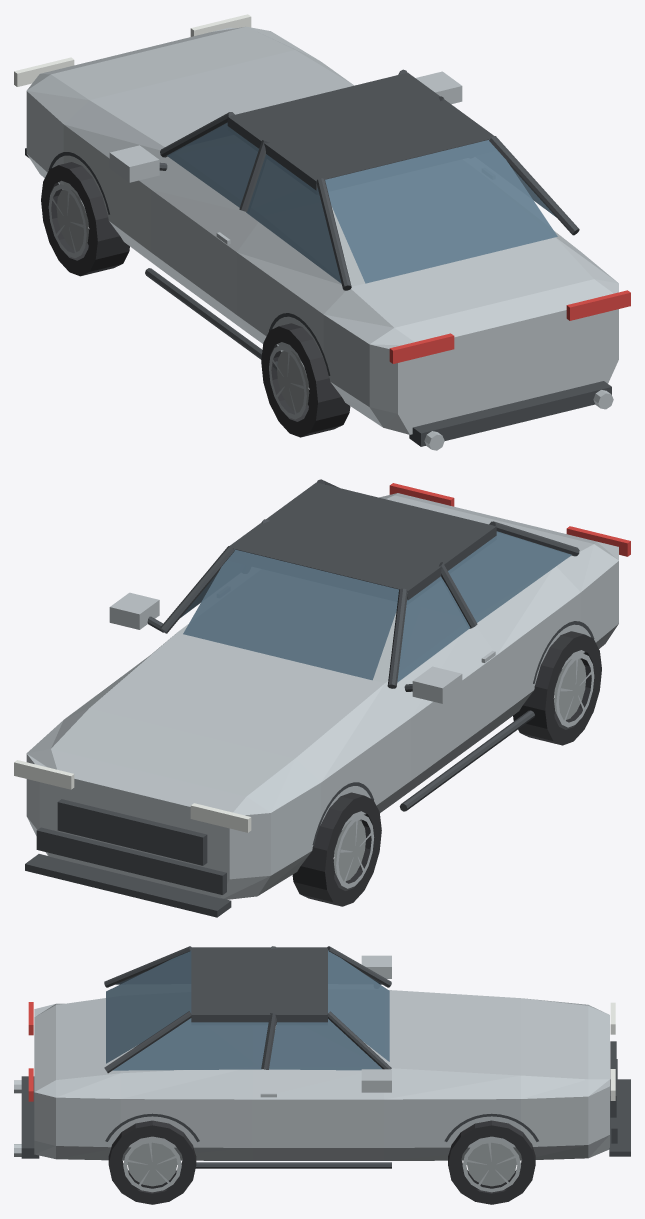
The model's file is cedar_sedan.glb.
The picture shows the model from 3 angles, top to bottom: view 1: azimuth 30°, elevation 25°; view 2: azimuth 150°, elevation 25°; view 3: azimuth 270°, elevation 25°; orthographic projection. The views are drawn at different scales.
Parts seen in each view (by area): view 1: Body_Shell, Backlight, Roof_Frame, Quarter_Glass_L, Tire_RL, Tire_FL, Door_Glass_L, Rear_Diffuser, Mirror_Cap_L, Side_Sill_L, Brake_RL, Brake_FL (+11 smaller); view 2: Body_Shell, Windshield, Roof_Frame, Quarter_Glass_L, Tire_FL, Front_Grille, Tire_RL, Lower_Intake, Splitter, Door_Glass_L, Side_Sill_L, Mirror_Cap_L (+13 smaller); view 3: Body_Shell, Roof_Frame, Backlight, Quarter_Glass_R, Windshield, Door_Glass_R, Tire_RR, Tire_FR, Brake_RR, Brake_FR, Side_Sill_R, Splitter (+11 smaller).
Boxes of the visible parts, x1,y1,x2,y2 form: Body_Shell: (26,26,618,434); Backlight: (325,139,557,283); Roof_Frame: (227,73,493,190); Quarter_Glass_L: (246,154,341,283); Tire_RL: (261,323,350,437); Tire_FL: (41,162,129,276); Door_Glass_L: (167,122,258,207); Rear_Diffuser: (409,381,611,446); Mirror_Cap_L: (109,145,159,182); Side_Sill_L: (145,268,277,370); Brake_RL: (277,351,309,412); Brake_FL: (56,189,88,251); Body_Shell: (26,493,618,899); Windshield: (183,549,398,680); Roof_Frame: (230,482,496,600); Quarter_Glass_L: (448,531,571,622); Tire_FL: (292,792,381,906); Front_Grille: (57,799,207,865); Tire_RL: (513,631,601,745); Lower_Intake: (36,827,226,894); Splitter: (25,854,231,917); Door_Glass_L: (397,576,470,682); Side_Sill_L: (399,710,534,811); Mirror_Cap_L: (412,666,462,703); Body_Shell: (34,990,609,1160); Roof_Frame: (191,947,327,1024); Backlight: (106,950,191,1063); Quarter_Glass_R: (113,1018,268,1070); Windshield: (328,950,389,1061); Door_Glass_R: (269,1019,382,1070); Tire_RR: (108,1120,196,1204); Tire_FR: (448,1120,535,1204); Brake_RR: (127,1142,177,1186); Brake_FR: (467,1142,516,1186); Side_Sill_R: (195,1162,391,1168); Splitter: (609,1079,630,1156).
Size of the model in its own units: 2.33 by 1.5 by 4.86.
